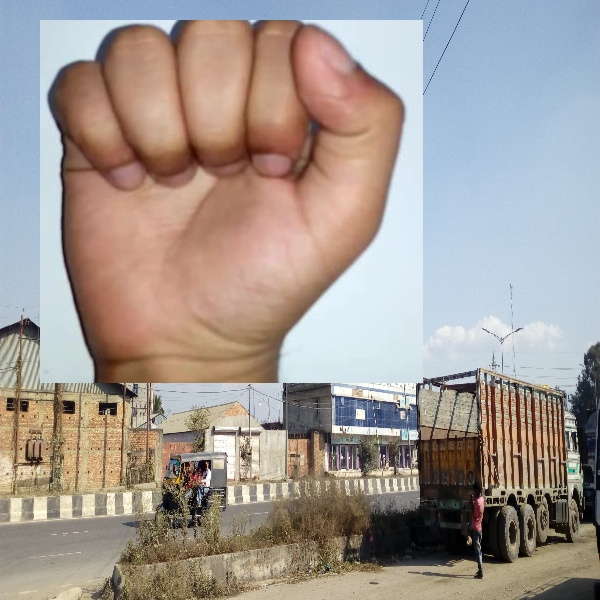F: (40, 20, 423, 383)
